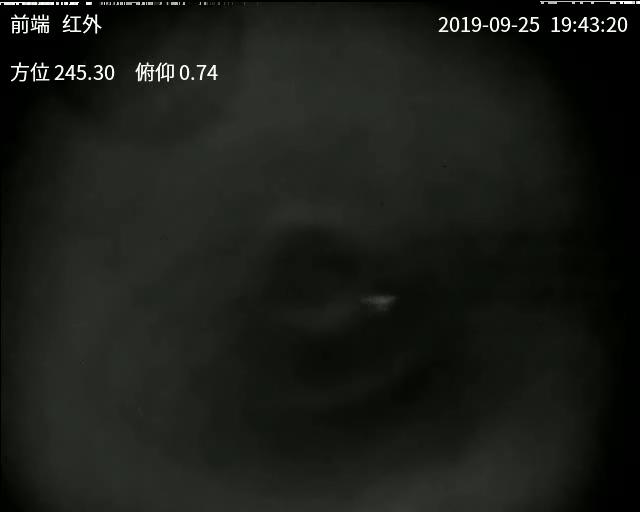uav: (356, 291, 394, 313)
